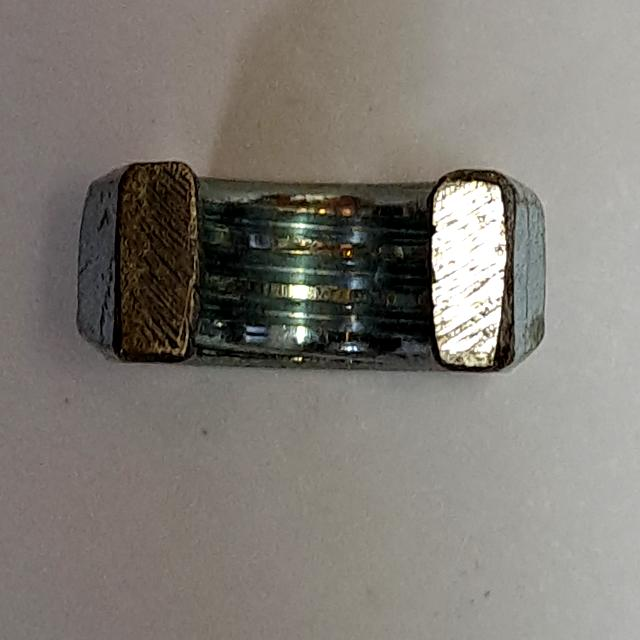Side-Fracture: (68, 143, 564, 391)
